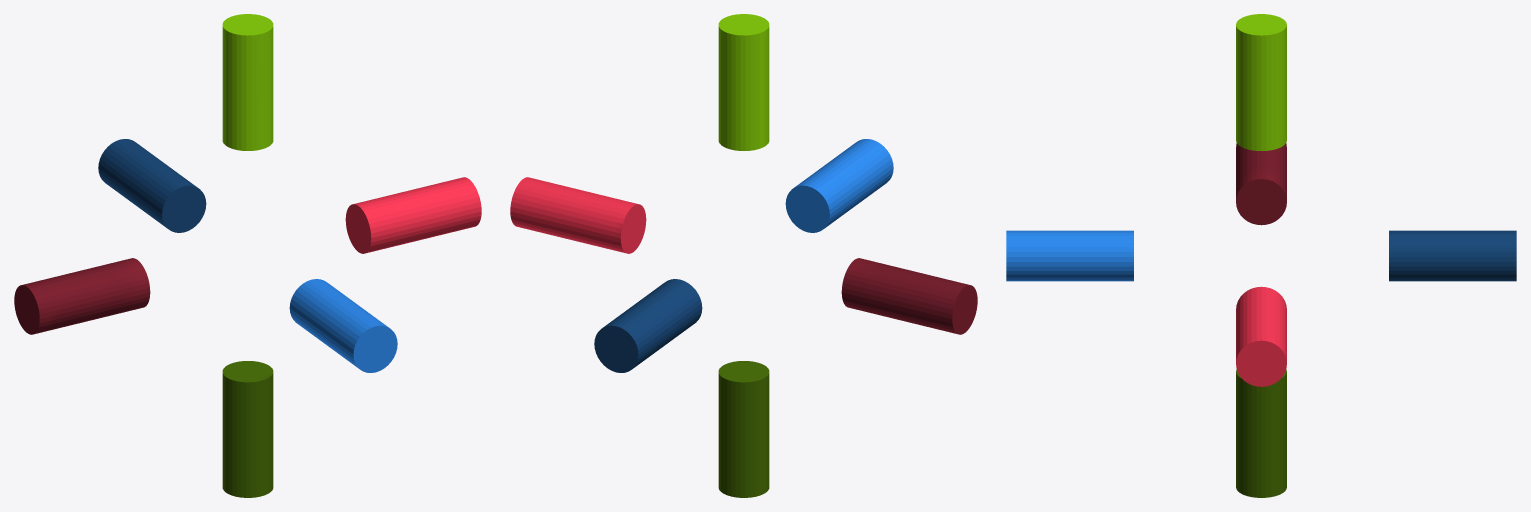
The model's file is transform_reference.gltf.
The picture shows the model from 3 angles, left to right: view 1: azimuth 30°, elevation 25°; view 2: azimuth 150°, elevation 25°; view 3: azimuth 270°, elevation 25°; orthographic projection.
Visible parts, largest first — view 1: reference_frame; view 2: reference_frame; view 3: reference_frame.
Part boxes in pixels (<box>): reference_frame: <box>14,14,481,497</box>; reference_frame: <box>510,14,977,497</box>; reference_frame: <box>1006,14,1516,497</box>.
Bounding box in the file's own units: 2 × 2 × 2.
Materials: 1 (1 with a texture image).
